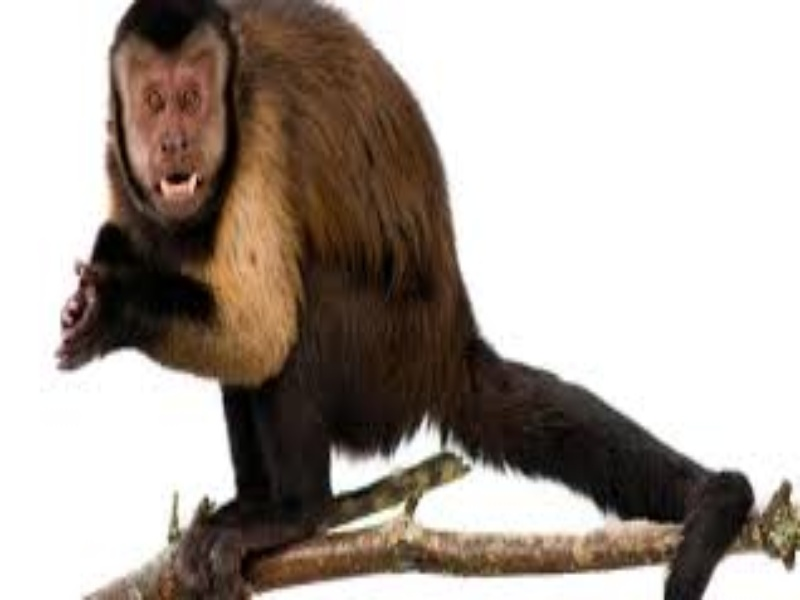monkey: (1, 1, 762, 528)
